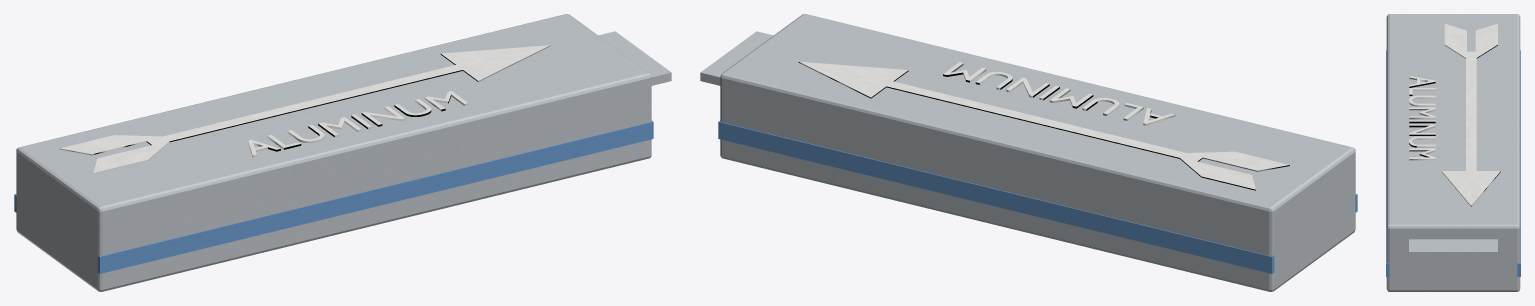
File: FL_AluminumBoltBox.fbx
3 views of the same model, side by side, from view 1: azimuth 30°, elevation 25°; view 2: azimuth 150°, elevation 25°; view 3: azimuth 270°, elevation 25° (orthographic). The views are drawn at different scales.
Parts seen in each view (by area): view 1: FL_AluminumBoltBox; view 2: FL_AluminumBoltBox; view 3: FL_AluminumBoltBox.
Boxes of the visible parts, x1,y1,x2,y2 form: FL_AluminumBoltBox: (14,14,671,291); FL_AluminumBoltBox: (700,14,1357,291); FL_AluminumBoltBox: (1386,14,1520,291).
Bounding box in the file's own units: 0.03 × 0.00426 × 0.00758.
